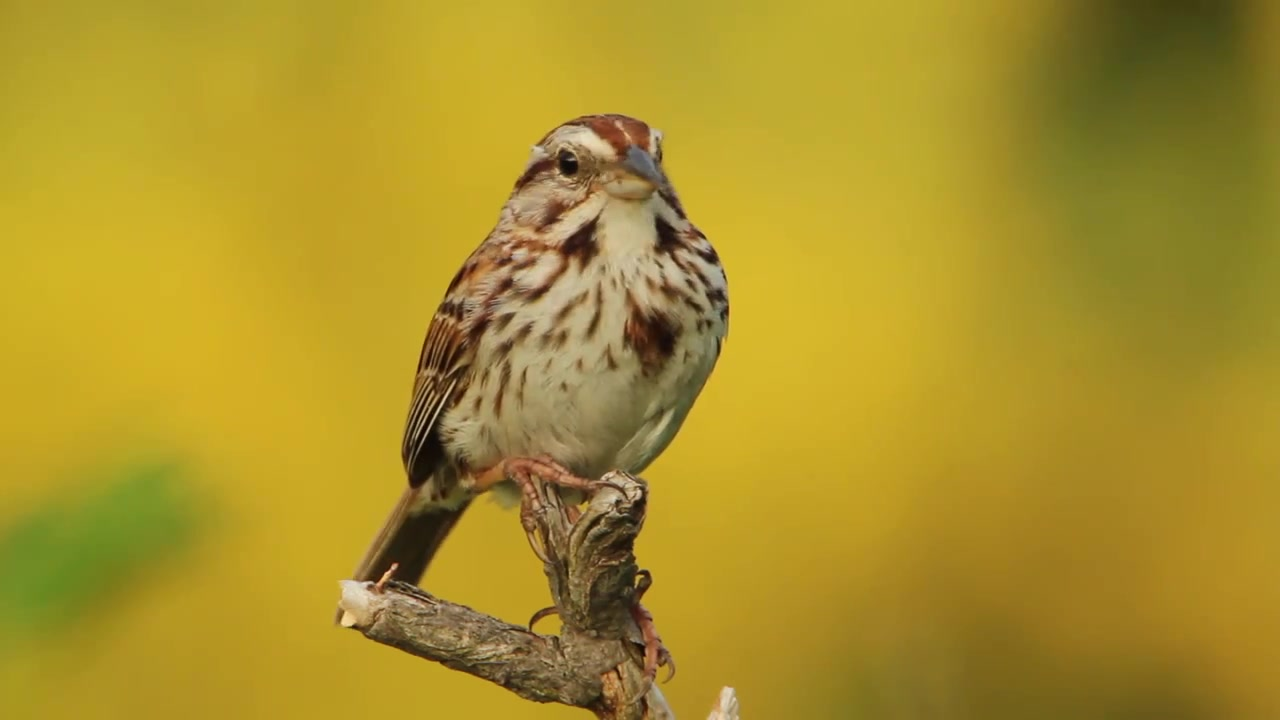bird: (332, 115, 731, 711)
